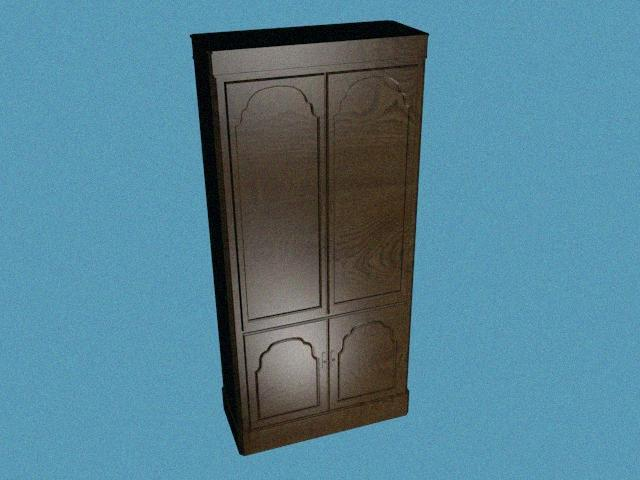cabinet_door: (235, 80, 328, 324), (328, 71, 412, 307), (248, 324, 329, 419), (329, 307, 405, 400)
